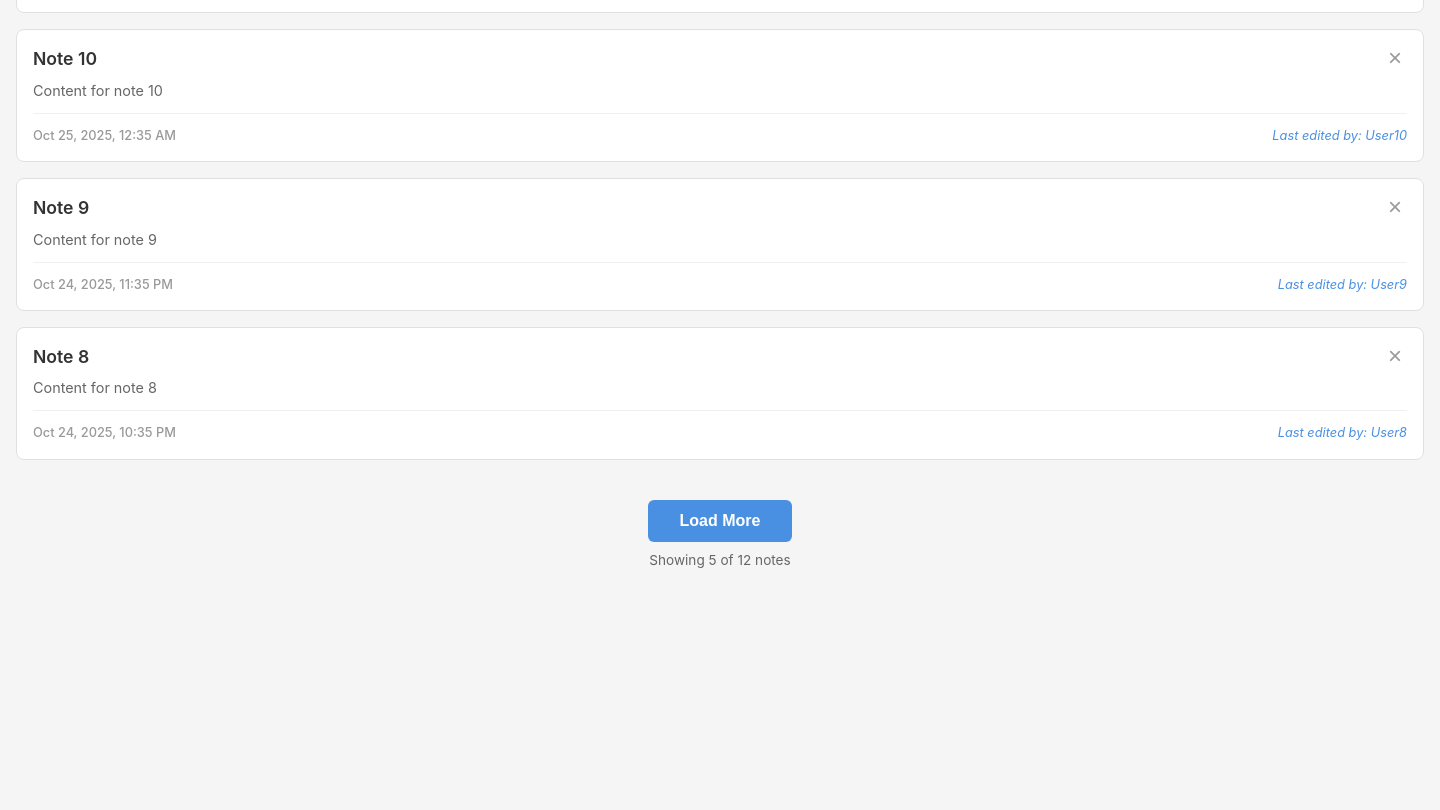
Test: LazyNotesList › shows "all loaded" message when all notes are displayed
(page scrolled)
What coordinates should you click on to do the following:
click the button "Load More"
I would click on:
 (720, 521)
Its box is [648,500,792,542].
Wait 300 ms
(page scrolled)
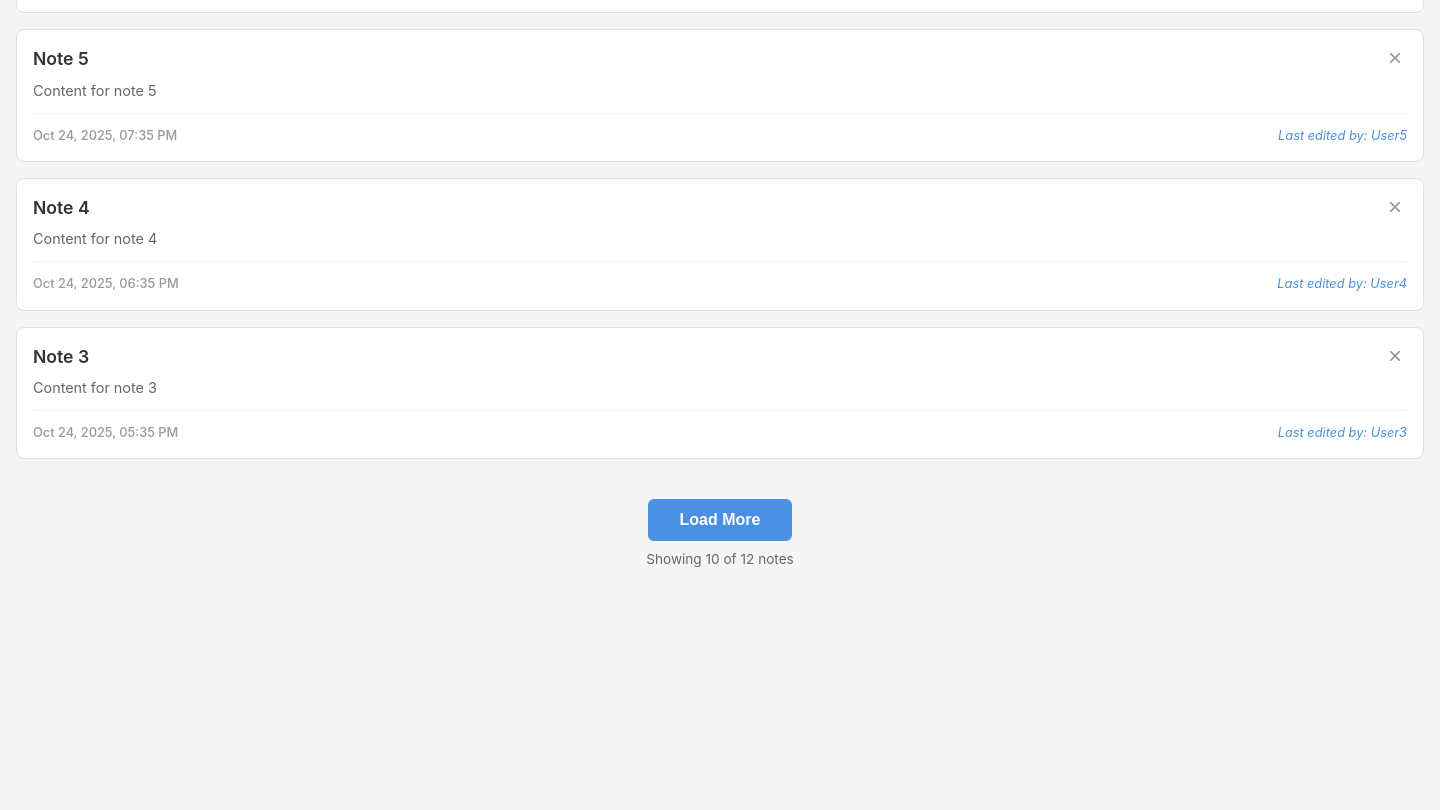
Expected: the text "Showing 10 of 12 notes" is shown, [646,549,794,570]
What coordinates should you click on to do the following:
click the button "Load More"
I would click on:
 (720, 520)
Its box is [648,499,792,541].
Wait 300 ms
(page scrolled)
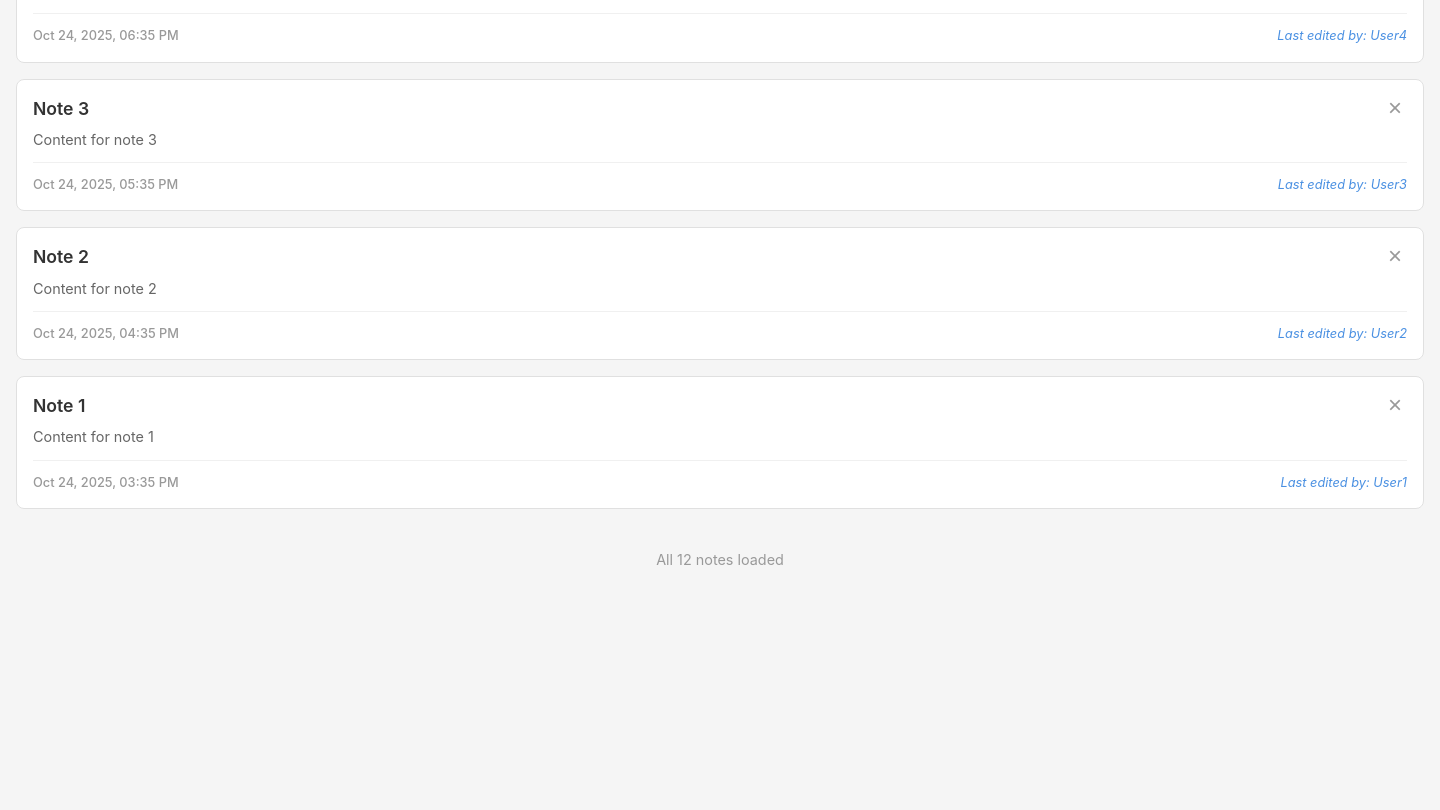
Expected: the text "All 12 notes loaded" is shown, [656,551,784,568]
Expected: the button "Load More" is gone
